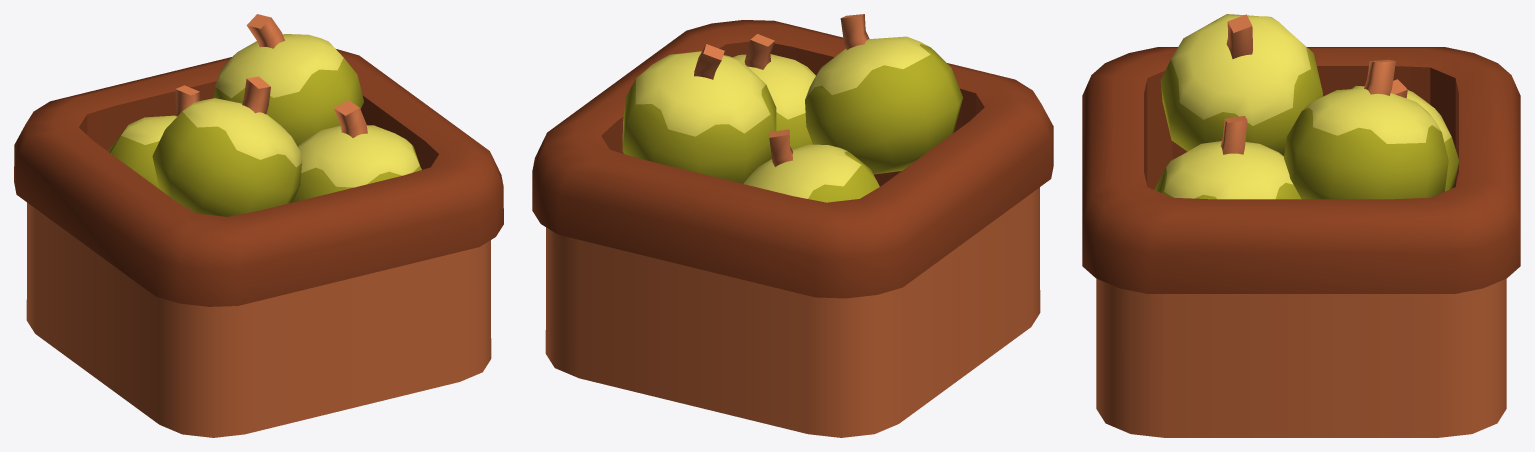
Rendered from basket_small.obj.
The picture shows the model from 3 angles, left to right: view 1: azimuth 30°, elevation 25°; view 2: azimuth 150°, elevation 25°; view 3: azimuth 270°, elevation 25°; orthographic projection. The views are drawn at different scales.
Parts seen in each view (by area): view 1: basket_small; view 2: basket_small; view 3: basket_small.
Part boxes in pixels (bbox=[...]): basket_small: bbox=[14, 14, 503, 437]; basket_small: bbox=[532, 14, 1053, 437]; basket_small: bbox=[1082, 14, 1520, 437].
Bounding box in the file's own units: 0.9879 × 0.7879 × 0.9879.
